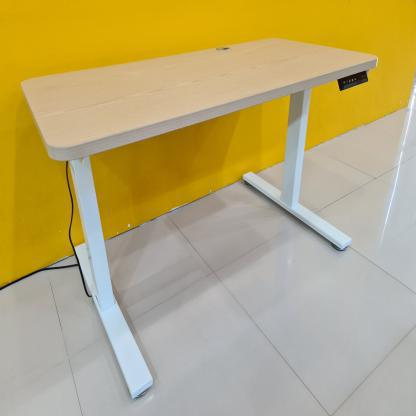table: (18, 30, 380, 403)
